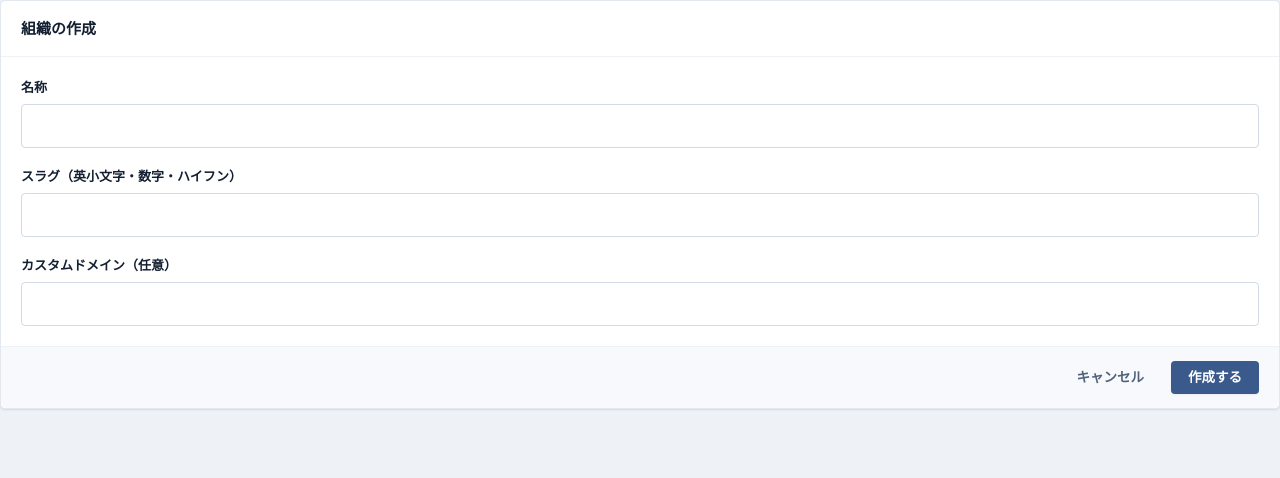
Test: CreateOrganizationForm › shows required errors and does not submit when empty
Step 1. Click the button with test id "org-create-submit" → (1215, 377), box [1171,361,1259,394]
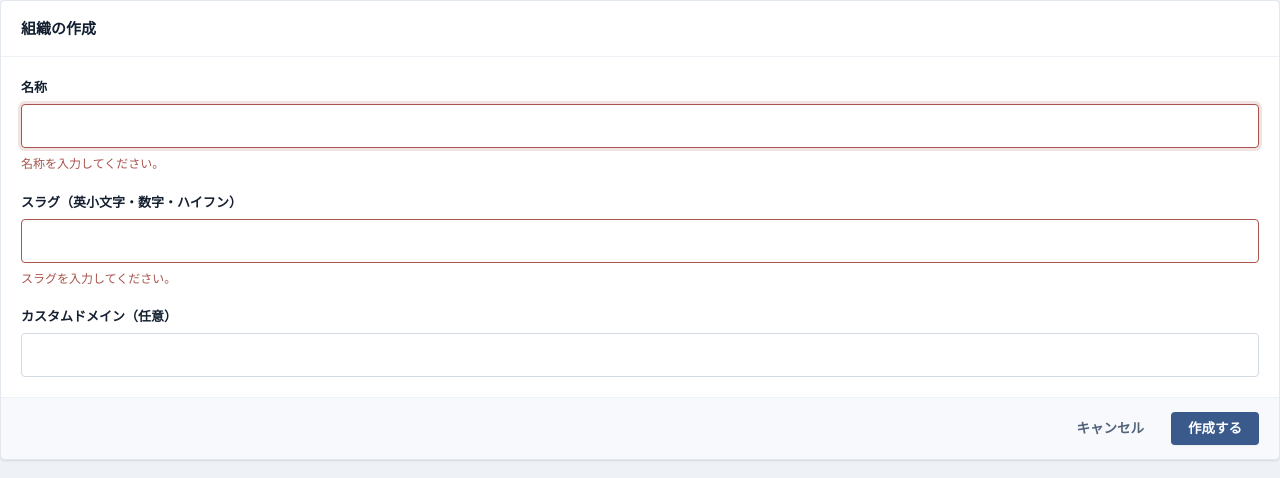
Expected: the text "名称を入力してください。" is shown, [21,156,164,171]
Expected: the text "スラグを入力してください。" is shown, [21,270,176,286]
